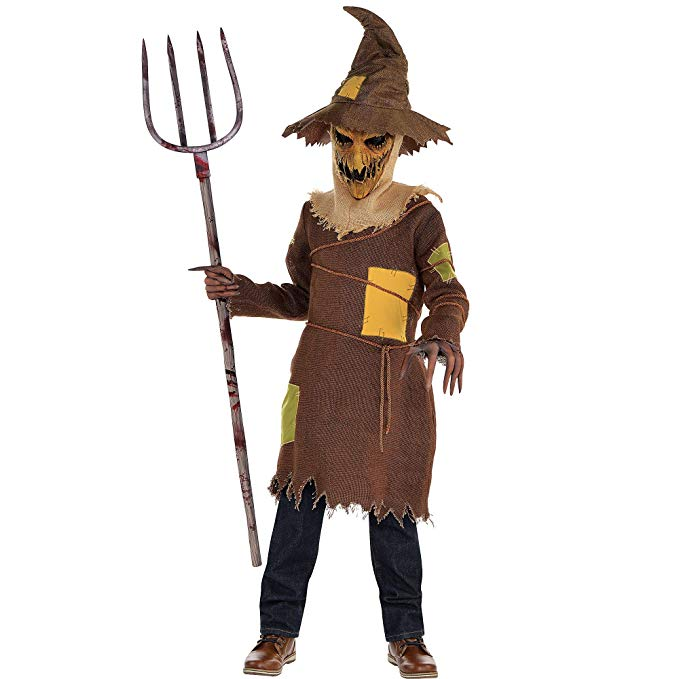person-like: (202, 4, 474, 678)
